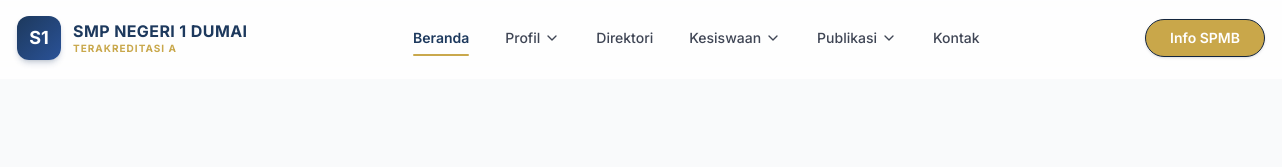
Navbar › Dropdown navigasi saat hover › menampilkan dropdown Kesiswaan saat mouseEnter
The image size is (1282, 167).
Hover over the element "Kesiswaan": (735, 38) [677,20,793,56]
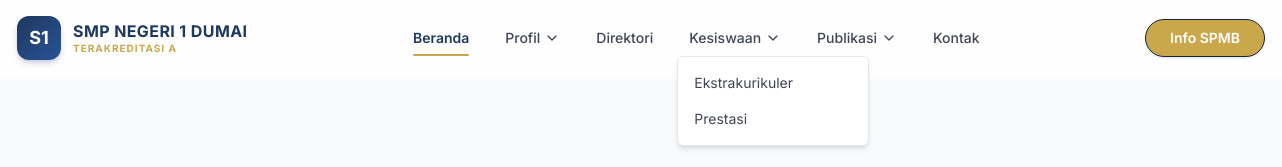
Expected: the link "Ekstrakurikuler" is shown, [694,74,793,91]
Expected: the link "Prestasi" is shown, [694,110,747,127]
